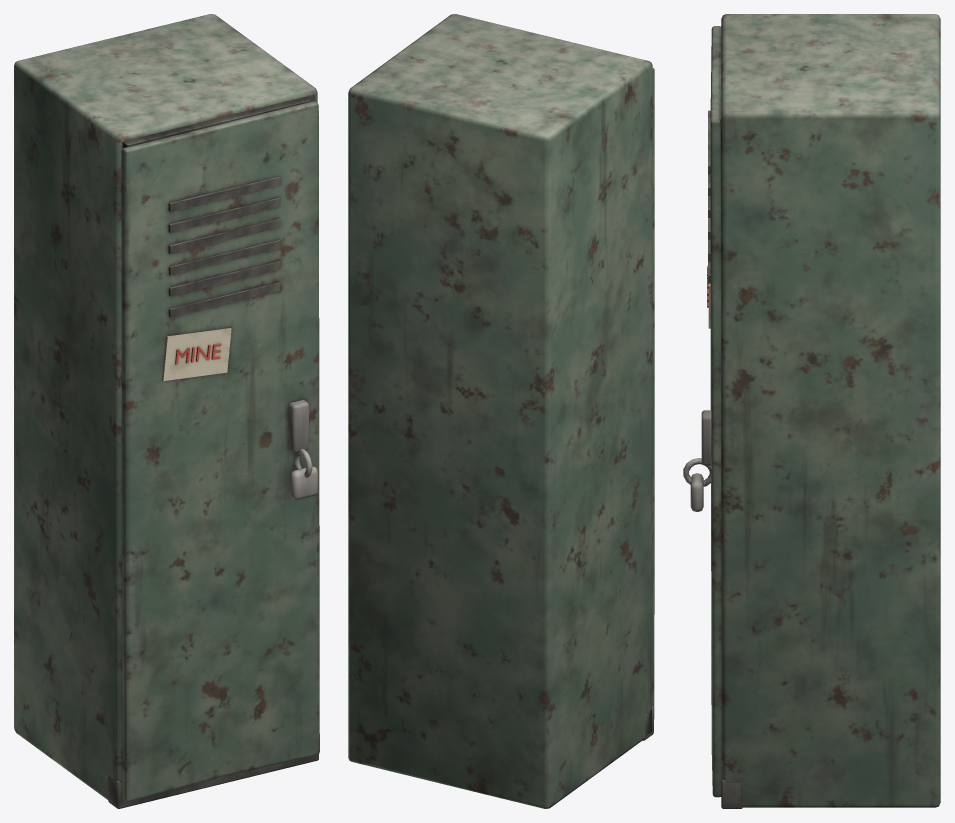
The model's file is locker.fbx.
3 renders of one model, left to right at view 1: azimuth 30°, elevation 25°; view 2: azimuth 150°, elevation 25°; view 3: azimuth 270°, elevation 25°, orthographic. The views are drawn at different scales.
Visible parts, largest first — view 1: Door, Body; view 2: Body, Door; view 3: Body, Door.
Boxes of the visible parts, x1,y1,x2,y2 form: Door: (121,101,319,801); Body: (14,14,318,808); Body: (348,14,653,808); Door: (652,68,654,718); Body: (720,14,940,808); Door: (683,26,721,797).
Size of the model in its own units: 2.2 by 7 by 2.35.
1 material, 1 textured.
